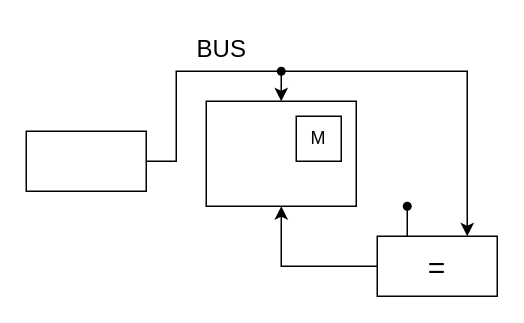
This 524x323 diagram has some shape labels left out. Here are the shapes that lost their labels. From the top down, the box of each, then its label:
(25, 130, 146, 191): MMU
(205, 100, 356, 206): KEYBOARD
